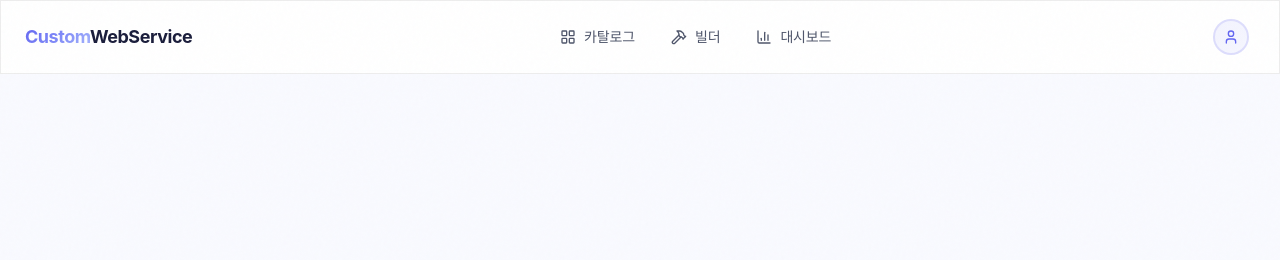
Test: Header › 로그인 상태 › 아바타 클릭 시 드롭다운이 열려 사용자 정보·메뉴를 보여준다
Click the button at (1231, 37), box [1207,13,1255,61]
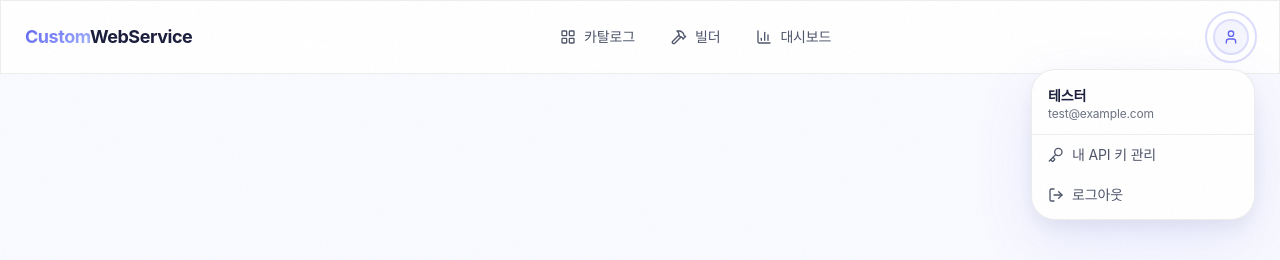
Result: the text "테스터" is shown at [1048,87,1086,104]
Result: the text "test@example.com" is shown at [1048,106,1154,121]
Result: the link "내 API 키 관리" is shown at [1048,146,1156,163]
